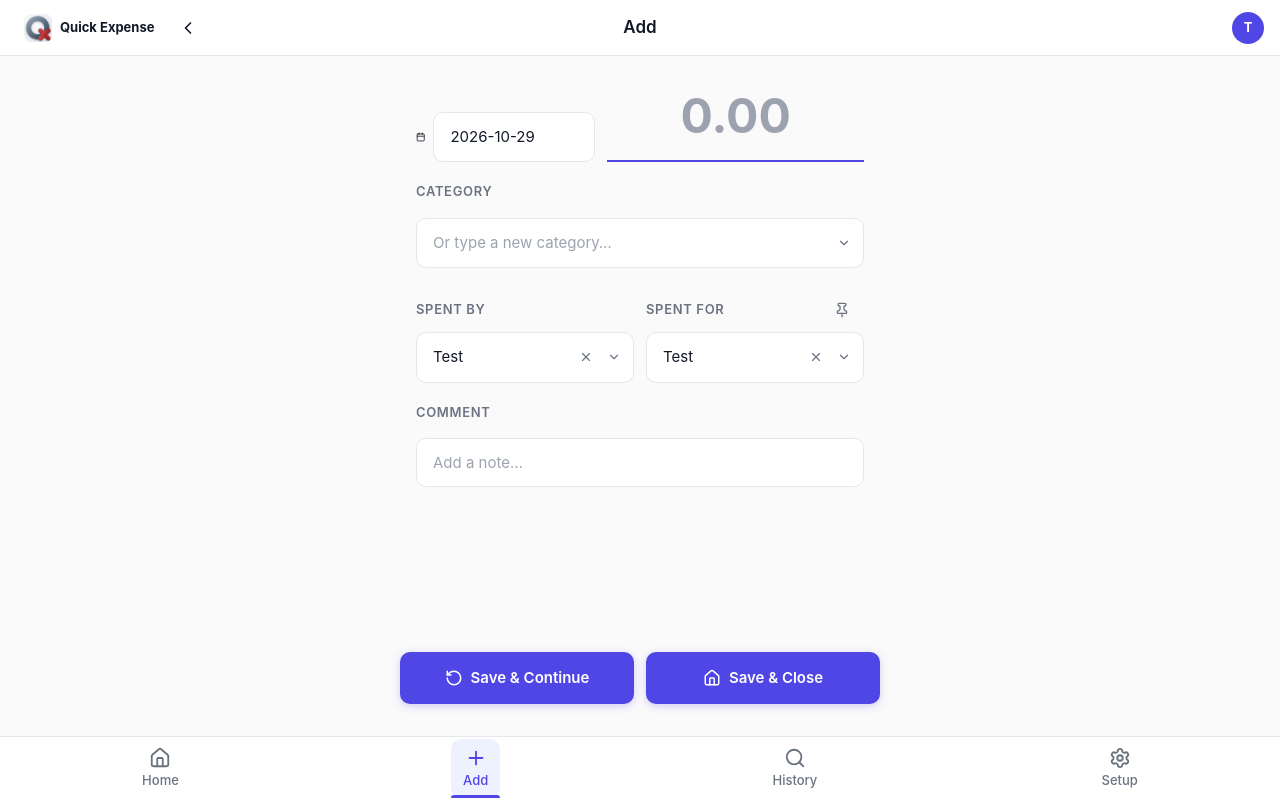
Test: AddExpensePage — Save & Continue field retention › A — non-amount fields are retained after Save & Continue
Expected: the field named "Amount in" is shown, [607,72,864,162]
In the dropdown with id "category-field": x=640, y=243 [416,218,864,268], type "Transport"
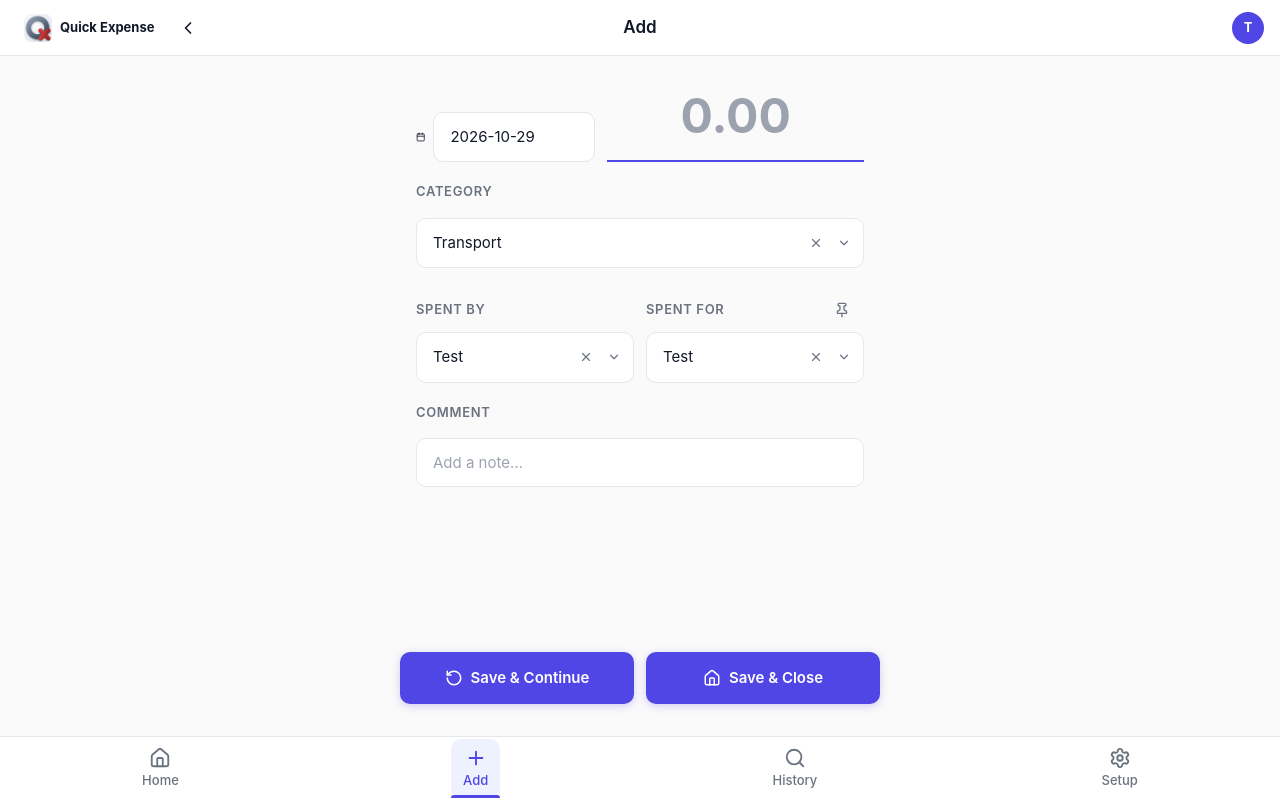
In the dropdown with id "comment-field": x=640, y=462 [416,438,864,487], type "Bus ride"
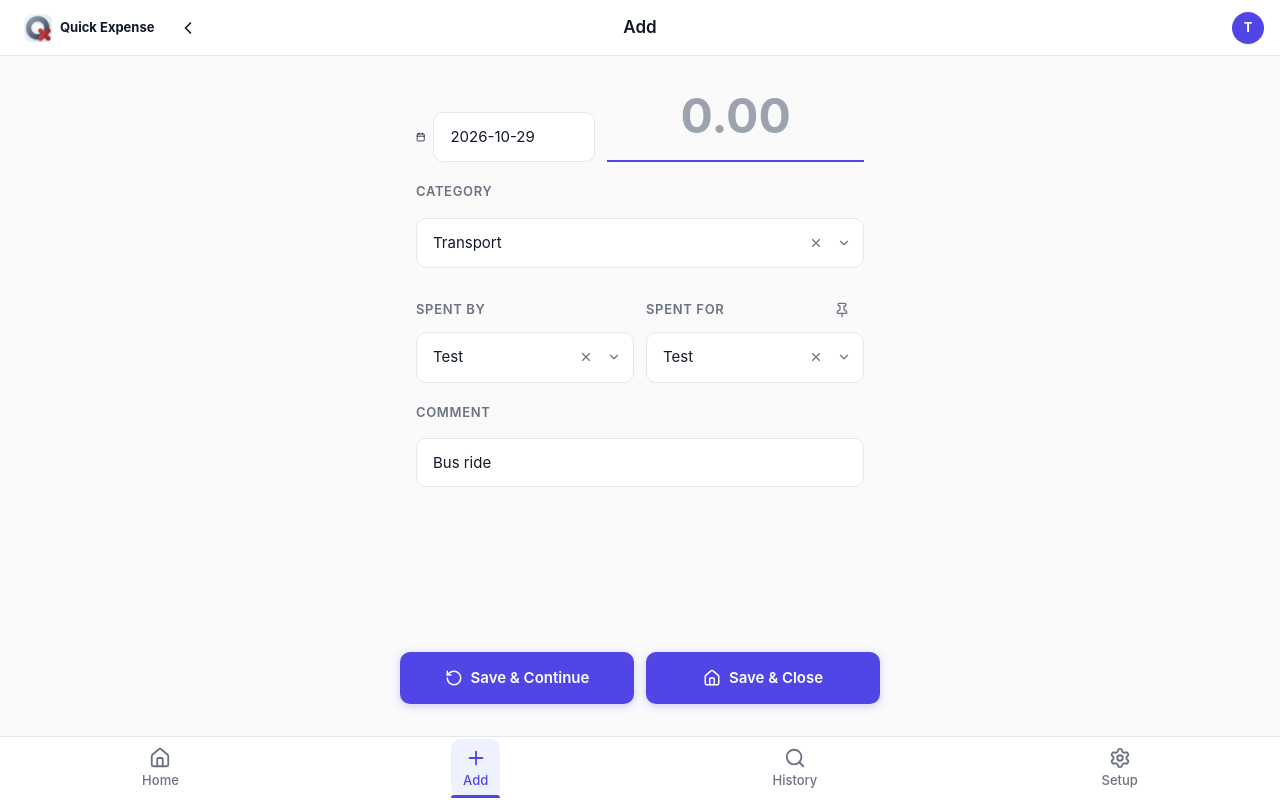
// Fill amount so the form is valid
In the field named "Amount in USD": x=736, y=117 [607,72,864,162], type "5.00"
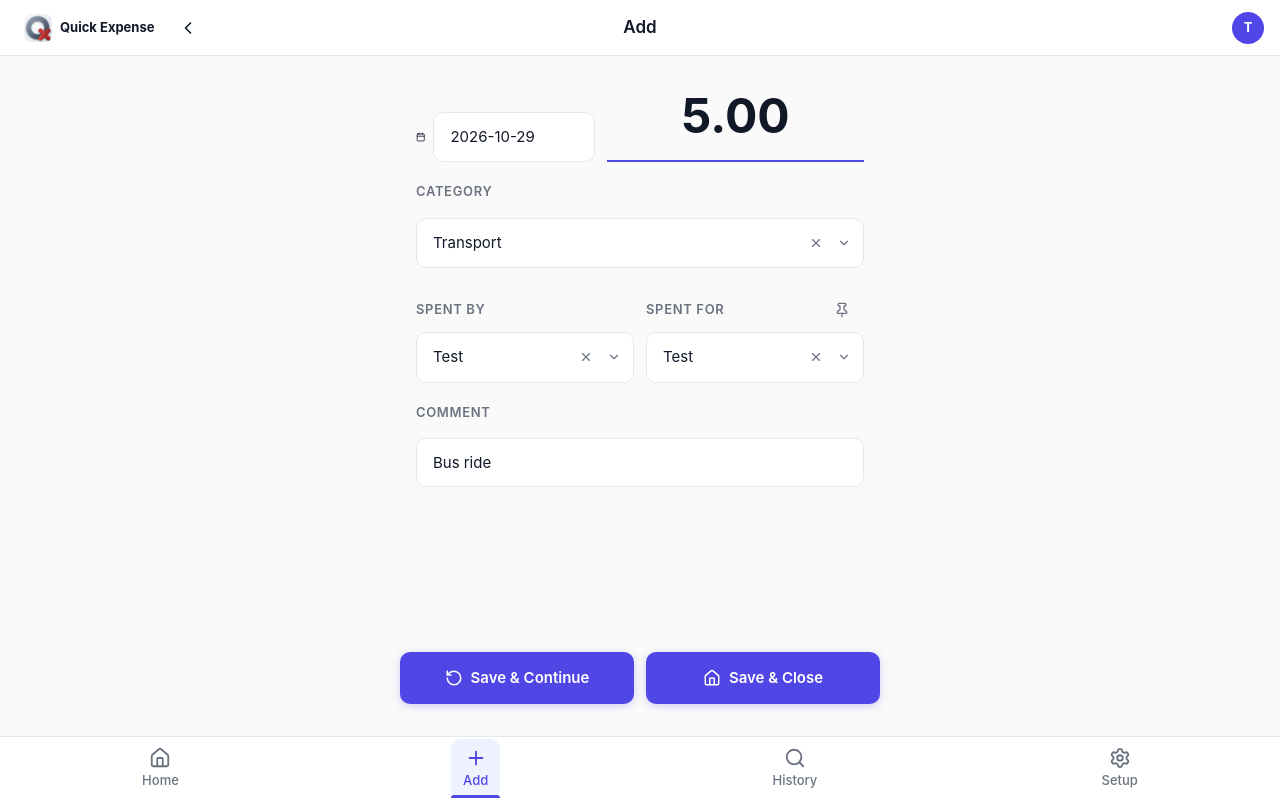
Click the button "Save & Continue": x=517, y=678 [400,652,634,704]
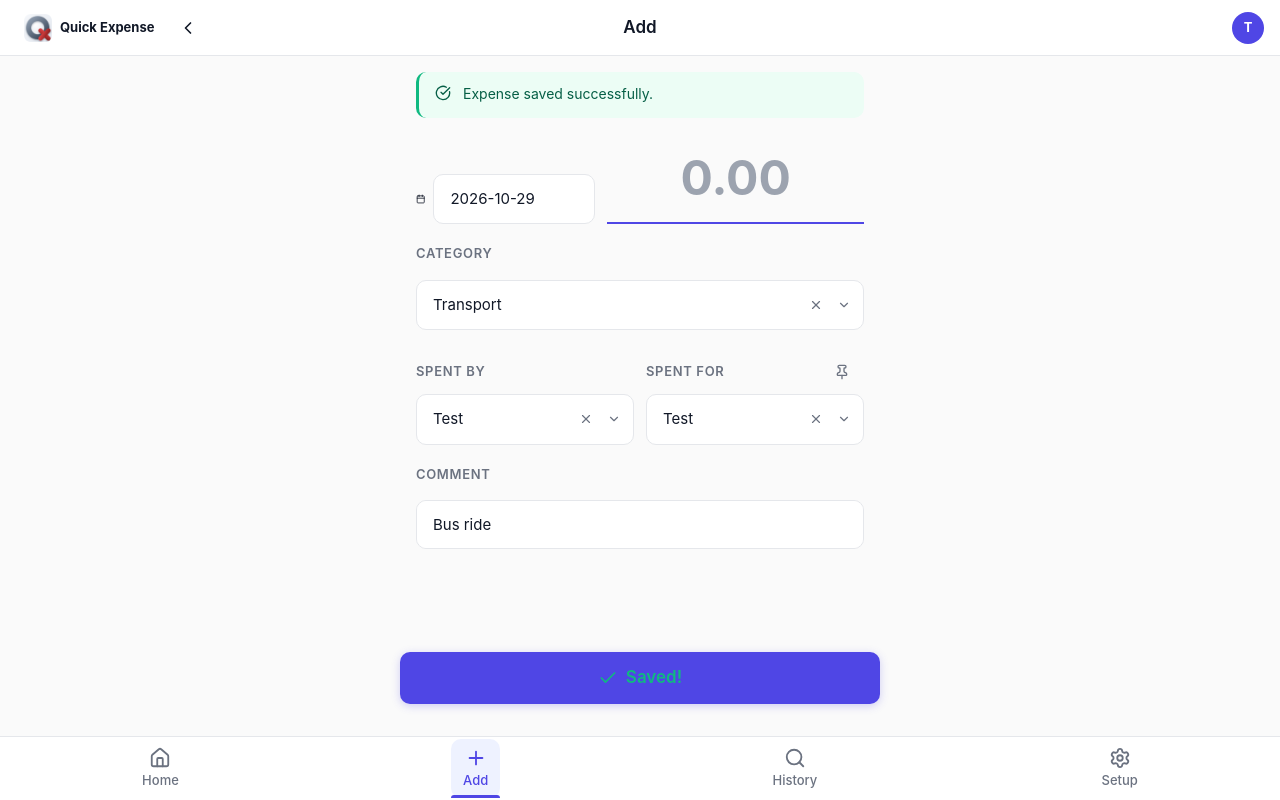
Expected: the text "Expense saved successfully." is shown, [463,85,653,102]
